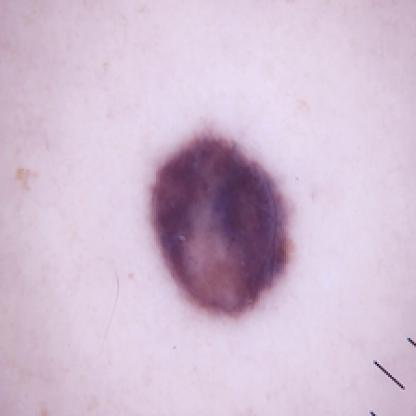benign: (147, 128, 299, 316)
